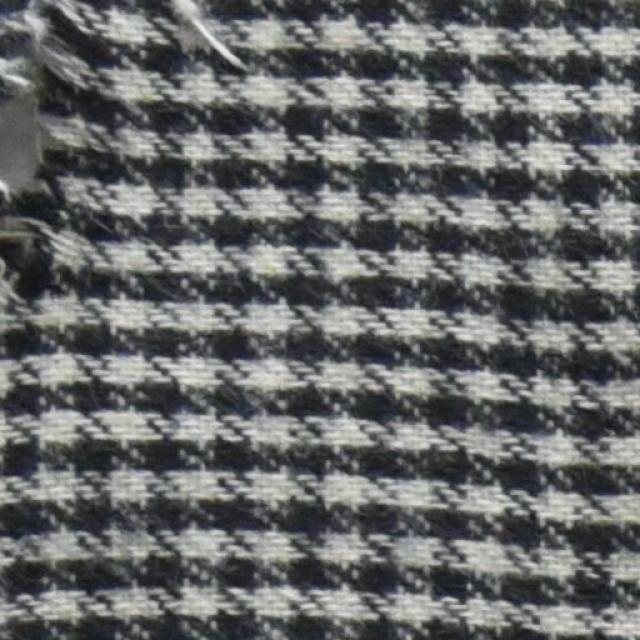Hole: (0, 91, 48, 193)
